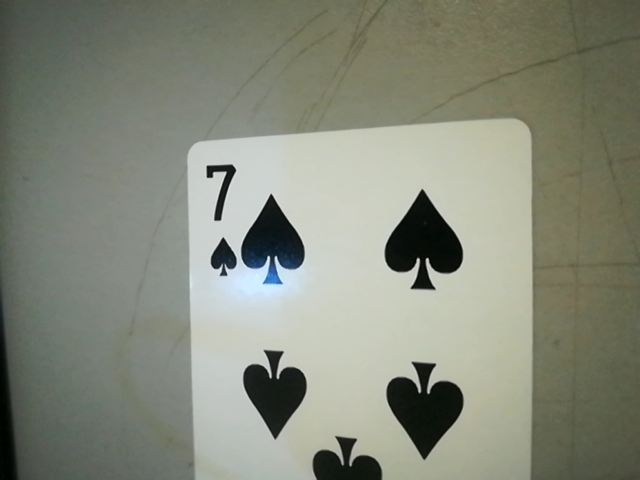ht 7: (188, 154, 243, 284)
